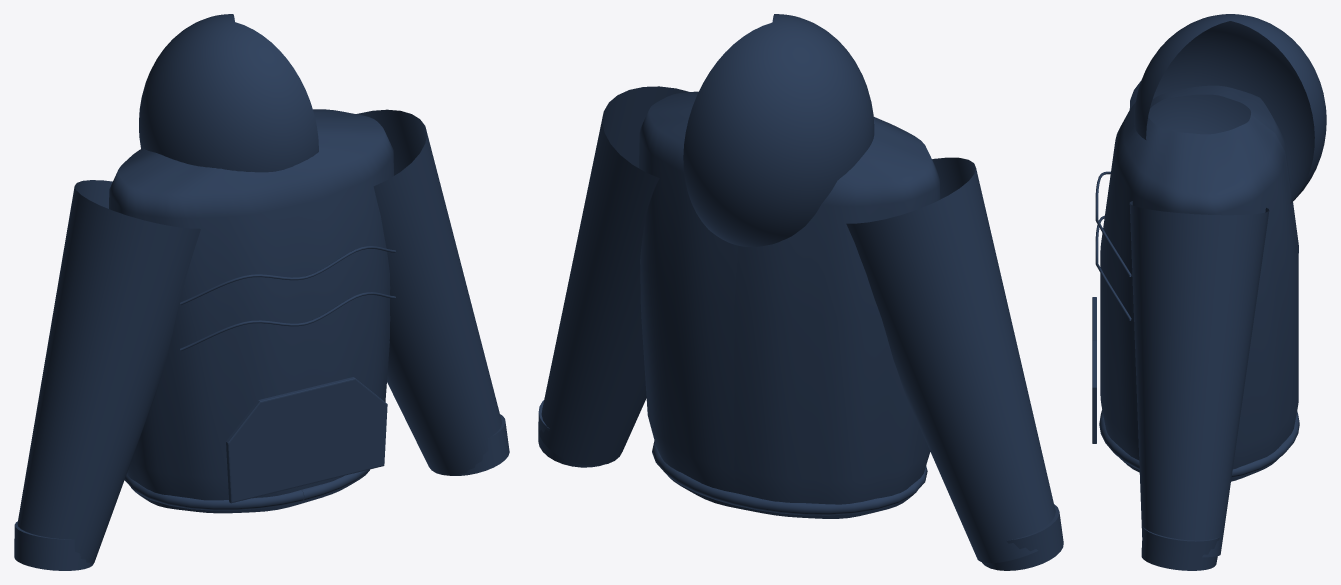
The model's file is hoodie-indigo-femme.glb.
The picture shows the model from 3 angles, left to right: view 1: azimuth 30°, elevation 25°; view 2: azimuth 150°, elevation 25°; view 3: azimuth 270°, elevation 25°; orthographic projection. The views are drawn at different scales.
Visible parts, largest first — view 1: hoodie-indigo, long-sleeve (×2); view 2: hoodie-indigo, long-sleeve (×2); view 3: hoodie-indigo, long-sleeve.
Boxes of the visible parts, box(x1,y1,x2,y2) form: hoodie-indigo: box(14, 14, 509, 570); long-sleeve (×2): box(17, 109, 501, 564); hoodie-indigo: box(538, 14, 1063, 570); long-sleeve (×2): box(538, 86, 1055, 563); hoodie-indigo: box(1092, 14, 1326, 570); long-sleeve: box(1129, 201, 1269, 557).
Bounding box in the file's own units: 0.7702 × 0.7203 × 0.341.
